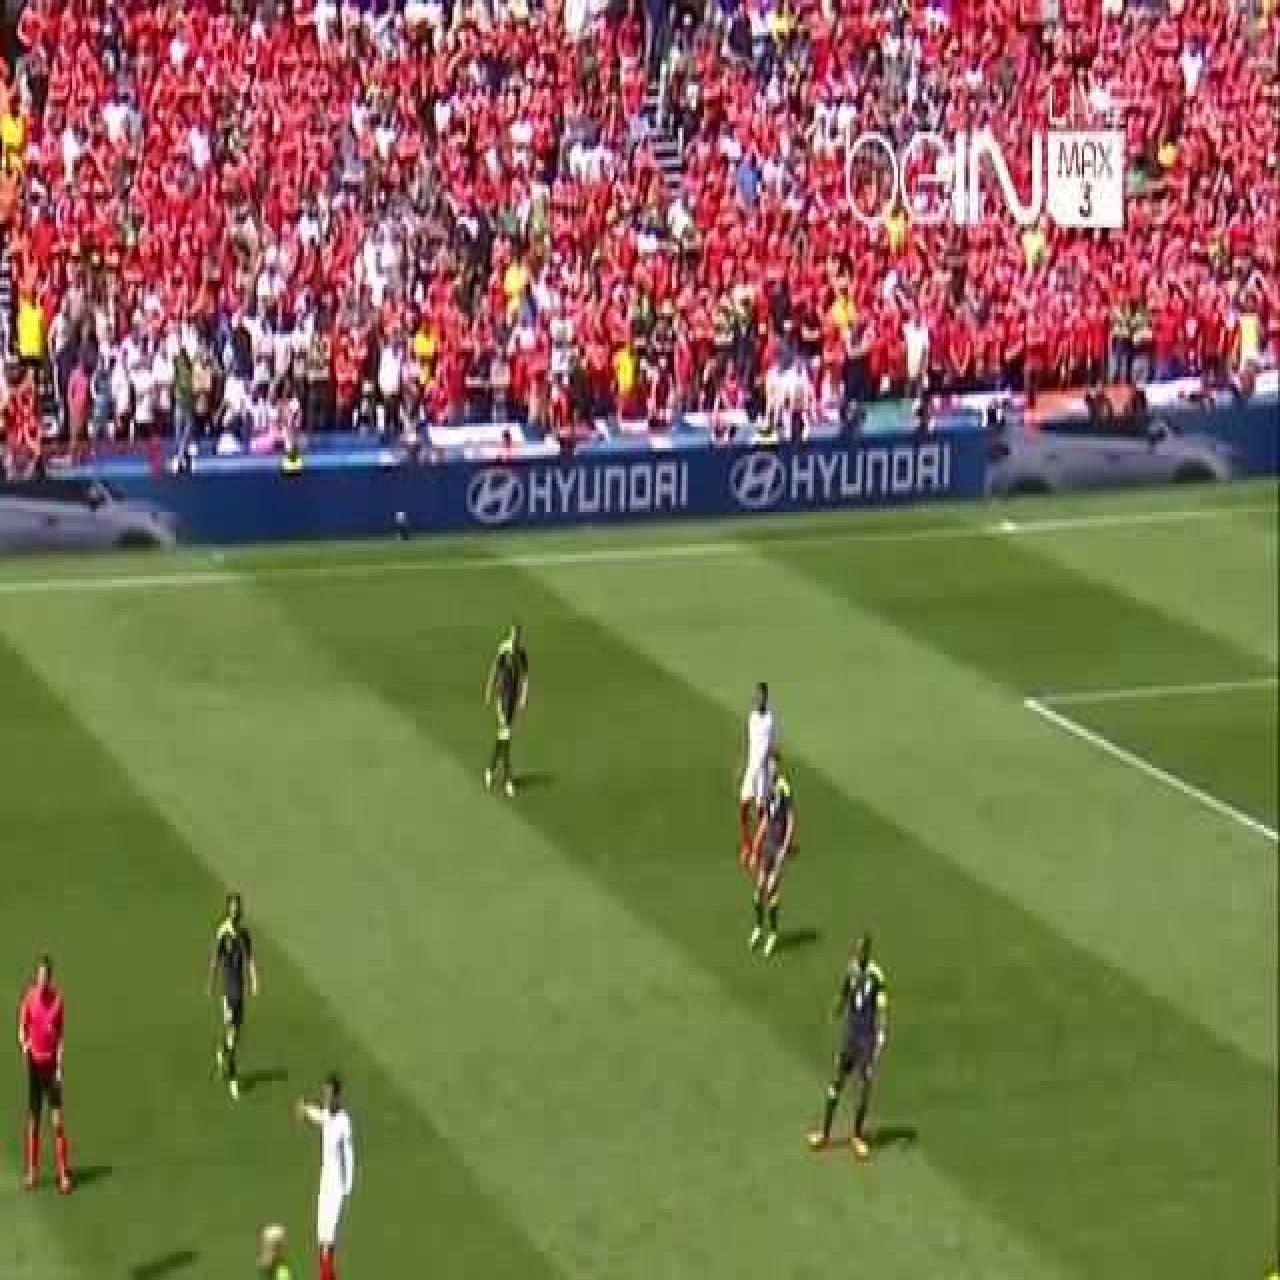football: (806, 934, 889, 1161), (18, 954, 72, 1195), (294, 1074, 354, 1280), (207, 893, 258, 1103), (747, 750, 797, 958), (484, 626, 530, 800), (736, 682, 776, 874), (240, 1219, 308, 1280)
